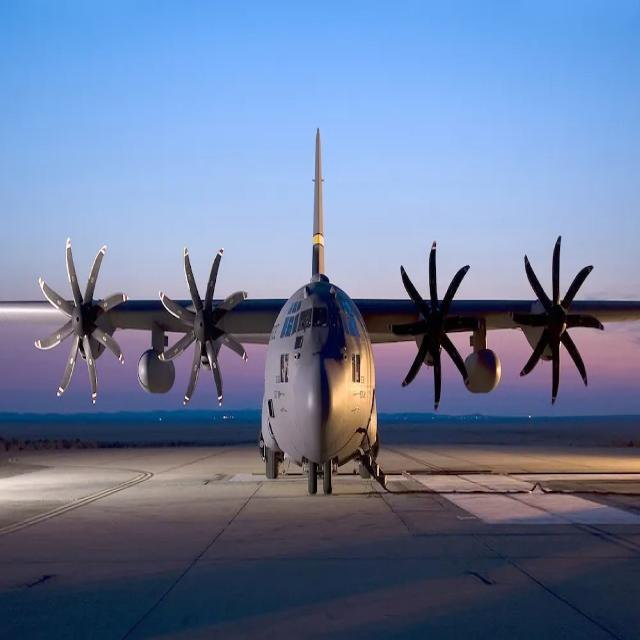C130: (2, 91, 640, 526)
